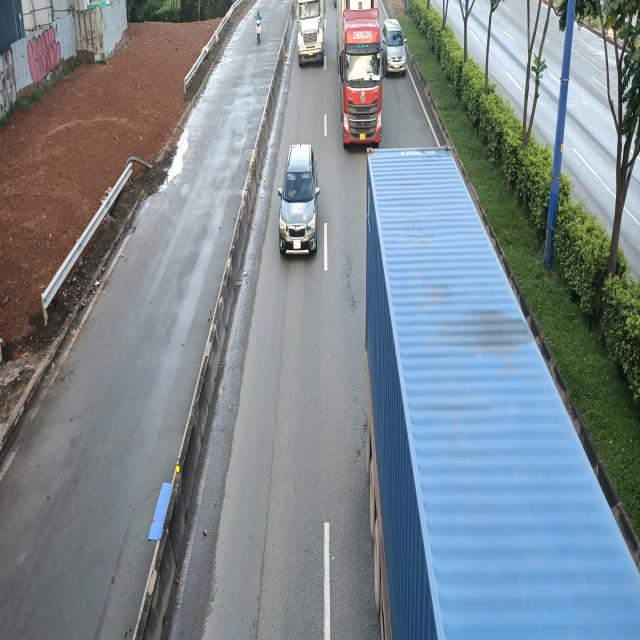car: (278, 142, 319, 255), (383, 18, 407, 77)
container: (360, 143, 612, 632), (338, 1, 385, 151), (292, 0, 325, 65)
